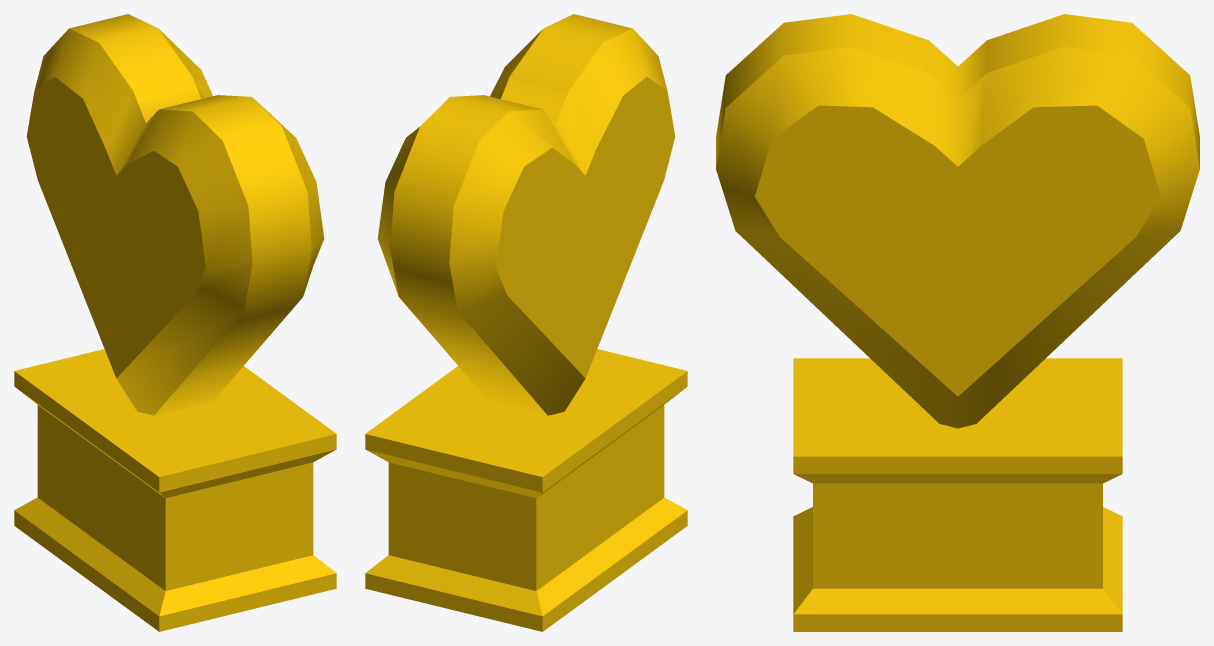
Rendered from kubok_charity.fbx.
3 views of the same model, side by side, from view 1: azimuth 30°, elevation 25°; view 2: azimuth 150°, elevation 25°; view 3: azimuth 270°, elevation 25° (orthographic). The views are drawn at different scales.
Visible parts, largest first — view 1: Cube; view 2: Cube; view 3: Cube.
Boxes of the visible parts, box(x1,y1,x2,y2) form: Cube: box(14, 14, 336, 631); Cube: box(365, 14, 687, 631); Cube: box(716, 14, 1199, 631).
Size of the model in its own units: 240 by 630 by 500.
